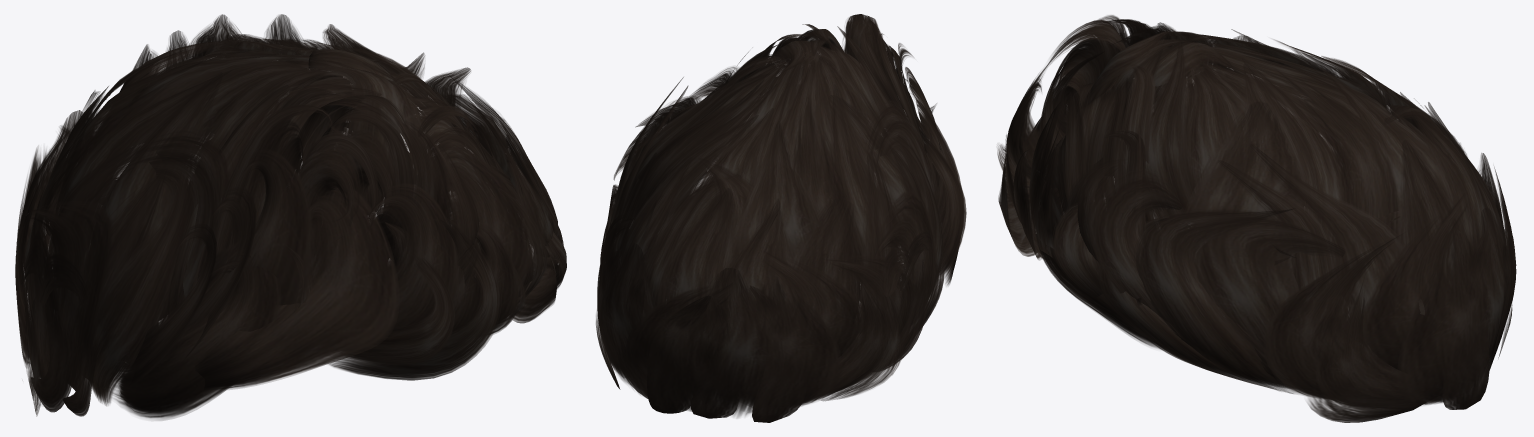
Rendered from Diamond_Straight_02.glb.
The picture shows the model from 3 angles, left to right: view 1: azimuth 30°, elevation 25°; view 2: azimuth 150°, elevation 25°; view 3: azimuth 270°, elevation 25°; orthographic projection. The views are drawn at different scales.
Parts seen in each view (by area): view 1: diamond straight 02 high fade; view 2: diamond straight 02 high fade; view 3: diamond straight 02 high fade.
Part boxes in pixels (x1=…): diamond straight 02 high fade: x1=15, y1=14, x2=566, y2=420; diamond straight 02 high fade: x1=596, y1=14, x2=966, y2=422; diamond straight 02 high fade: x1=997, y1=15, x2=1516, y2=422.
Bounding box in the file's own units: 0.1932 × 0.17 × 0.239.
Materials: 1 (1 with a texture image).
